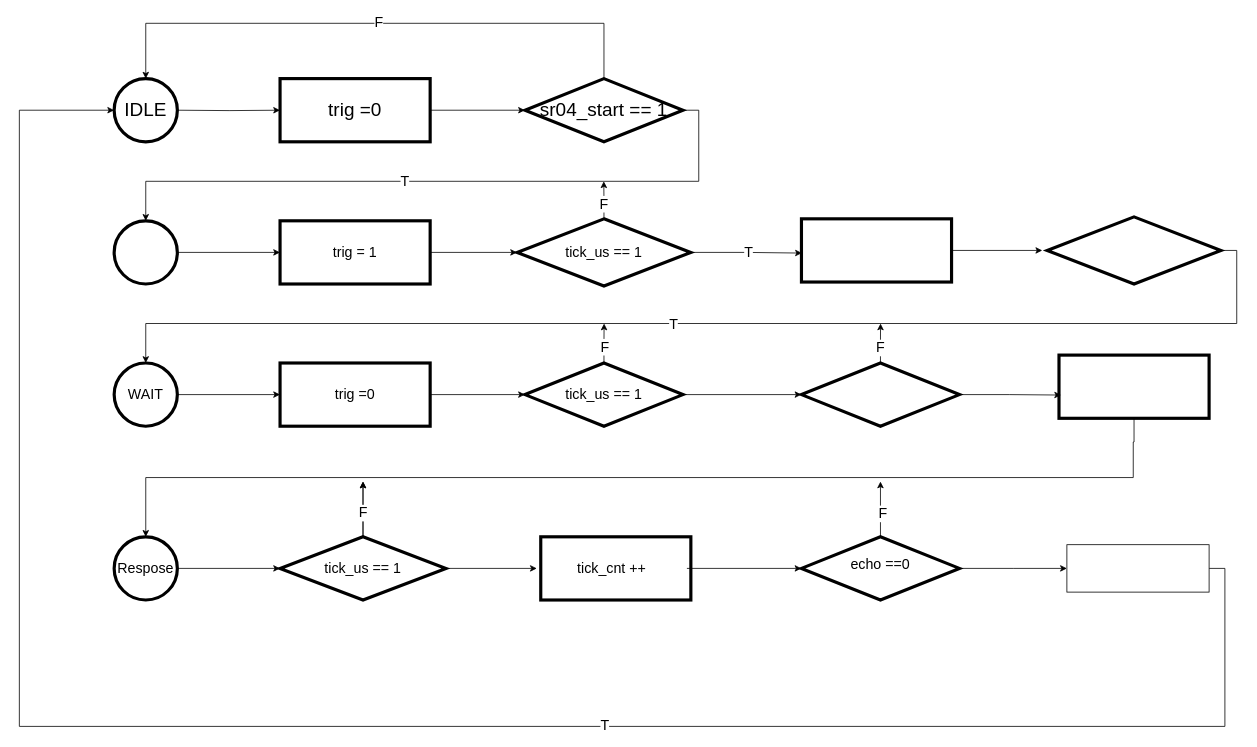
This 1257x747 diagram has some shape labels left out. The centre of each missing label's shape, as x and y in pixels:
"echo ==1" belongs at point (880, 394).
"START" belongs at point (145, 252).
"tick_cnt +1" belongs at point (876, 250).
"tick_cnt /58" belongs at point (1137, 568).
"tick_cnt = 0" belongs at point (1133, 386).
"tick_cnt >= 11" belongs at point (1133, 250).
